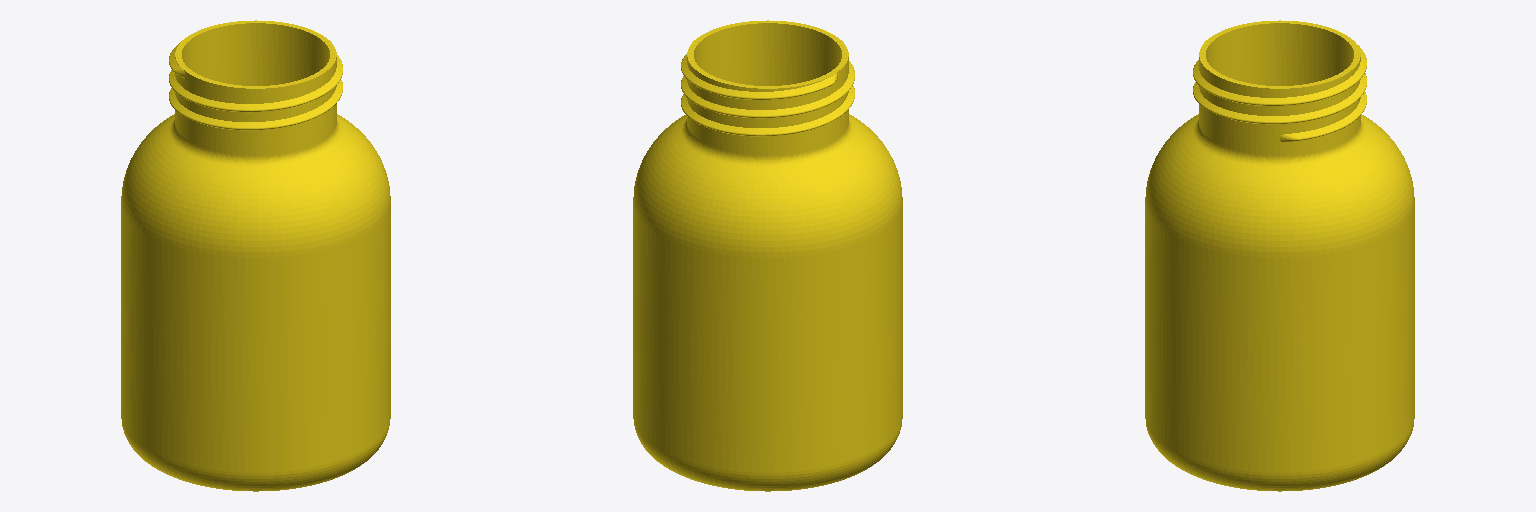
URDF robot description (cb_bottle1):
<?xml version="1.0"?>
<!-- ContactBench bottle / cap. Generated by FoundationTouch tools/contactbench/bottle_tasks.py -->
<robot name="cb_bottle1">
  <material name="c"><color rgba="0.95 0.85 0.15 1.0"/></material>
  <link name="receptive">
    <visual><origin xyz="0 0 0" rpy="0 0 0"/><geometry><mesh filename="bottle1.obj" scale="1 1 1"/></geometry><material name="c"/></visual>
    <collision><origin xyz="0 0 0" rpy="0 0 0"/><geometry><mesh filename="coll_00.obj" scale="1 1 1"/></geometry></collision>
    <collision><origin xyz="0 0 0" rpy="0 0 0"/><geometry><mesh filename="coll_01.obj" scale="1 1 1"/></geometry></collision>
    <collision><origin xyz="0 0 0" rpy="0 0 0"/><geometry><mesh filename="coll_02.obj" scale="1 1 1"/></geometry></collision>
    <collision><origin xyz="0 0 0" rpy="0 0 0"/><geometry><mesh filename="coll_03.obj" scale="1 1 1"/></geometry></collision>
    <collision><origin xyz="0 0 0" rpy="0 0 0"/><geometry><mesh filename="coll_04.obj" scale="1 1 1"/></geometry></collision>
    <collision><origin xyz="0 0 0" rpy="0 0 0"/><geometry><mesh filename="coll_05.obj" scale="1 1 1"/></geometry></collision>
    <collision><origin xyz="0 0 0" rpy="0 0 0"/><geometry><mesh filename="coll_06.obj" scale="1 1 1"/></geometry></collision>
    <collision><origin xyz="0 0 0" rpy="0 0 0"/><geometry><mesh filename="coll_07.obj" scale="1 1 1"/></geometry></collision>
  </link>
</robot>

--- Render facts (derived) ---
3 views of the same robot in one strip: view 1: azimuth 30°, elevation 25°; view 2: azimuth 150°, elevation 25°; view 3: azimuth 270°, elevation 25° (orthographic).
Robot: cb_bottle1 — 1 links, 0 joints (none); root link receptive; default pose: all joints at 0.
Links seen in each view (by area): view 1: receptive; view 2: receptive; view 3: receptive.
Boxes of the visible links, x1,y1,x2,y2 form: receptive: (121, 20, 390, 491); receptive: (633, 20, 902, 491); receptive: (1145, 20, 1414, 491).
Bounding box of the posed robot: 0.05 × 0.05 × 0.08 m (x, y, z).
1 mesh visuals loaded from 1 distinct referenced files (1 OBJ).
